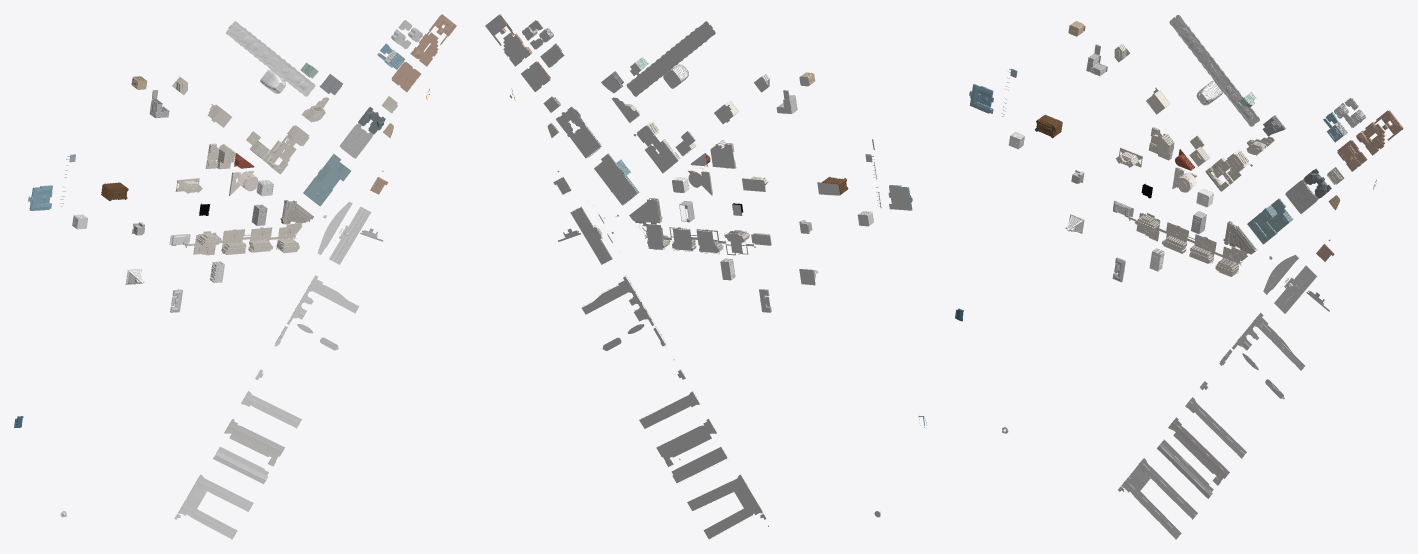
The picture shows the model from 3 angles, left to right: view 1: azimuth 30°, elevation 25°; view 2: azimuth 150°, elevation 25°; view 3: azimuth 330°, elevation 25°; orthographic projection.
Size of the model in its own units: 7144 by 8004 by 330.
